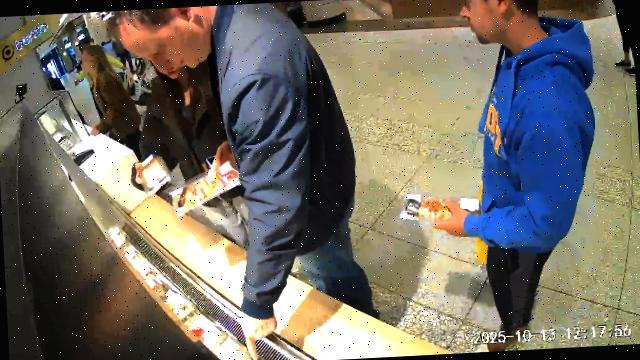sushi-box: (170, 161, 240, 218), (397, 193, 481, 227), (138, 152, 171, 197)
